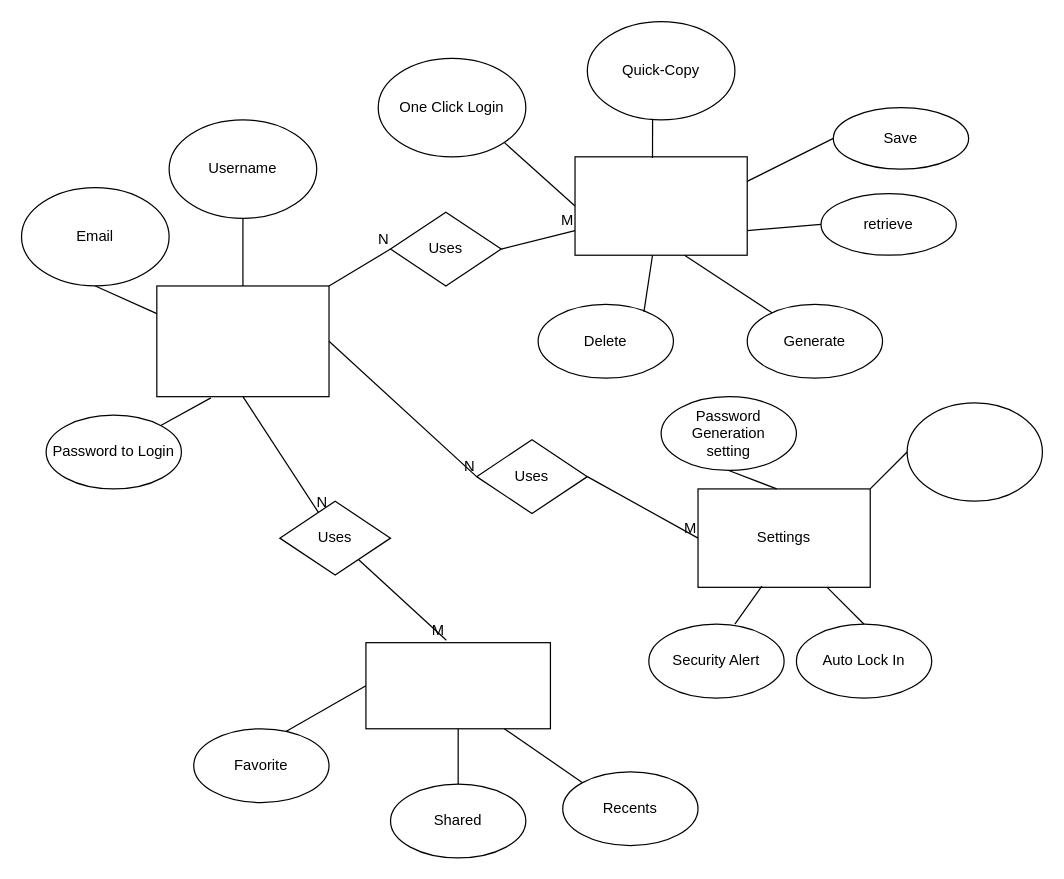
Image size: 1064x879. Some labels were removed from this diagram. Here are the shapes that lost their labels. From the top down, the box of each, then its label:
(574, 156, 747, 255): Password
(156, 285, 329, 397): User
(906, 402, 1042, 501): Biometric Authentication Preferences
(365, 641, 550, 729): Categorize Password into Groups
